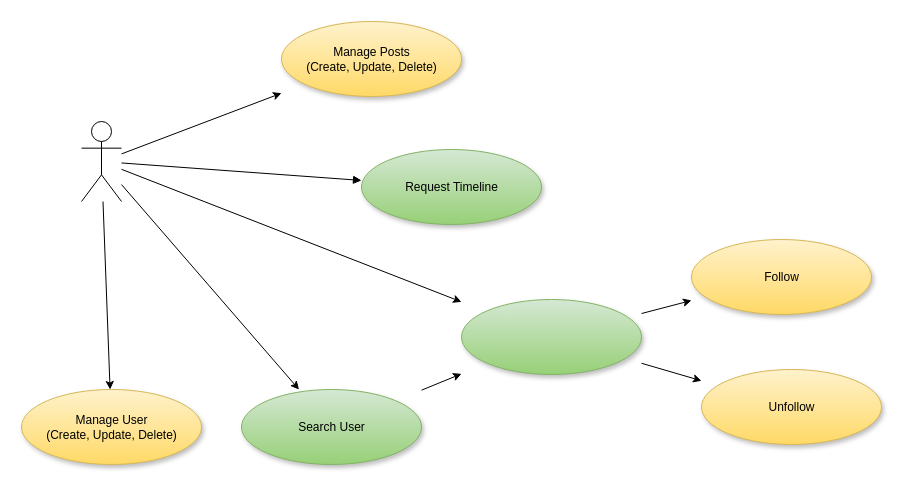
This 905x489 diagram has some shape labels left out. Each missing label, with the centre of its shape:
Client: point (101, 161)
Request User Info with Posts: point (552, 338)
